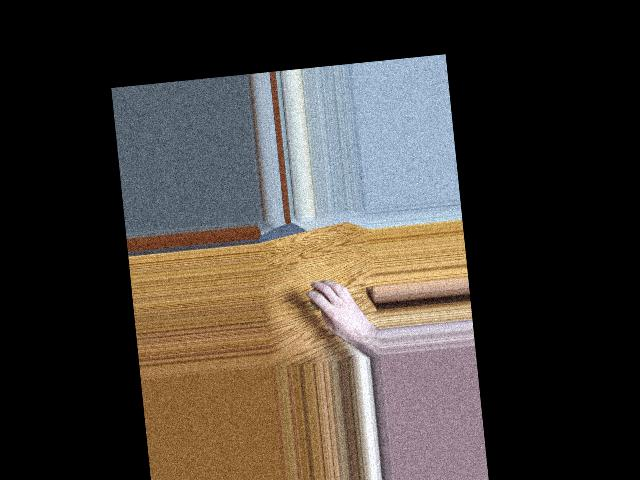onion: (308, 283, 335, 314)
